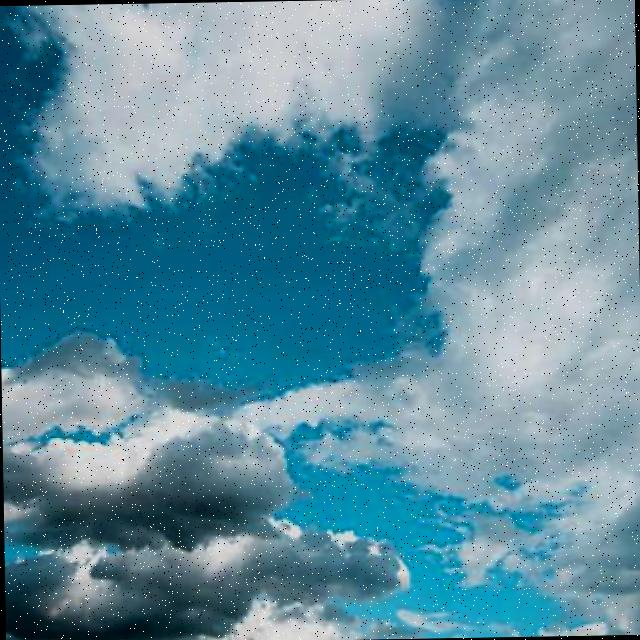As: (1, 320, 416, 640)
